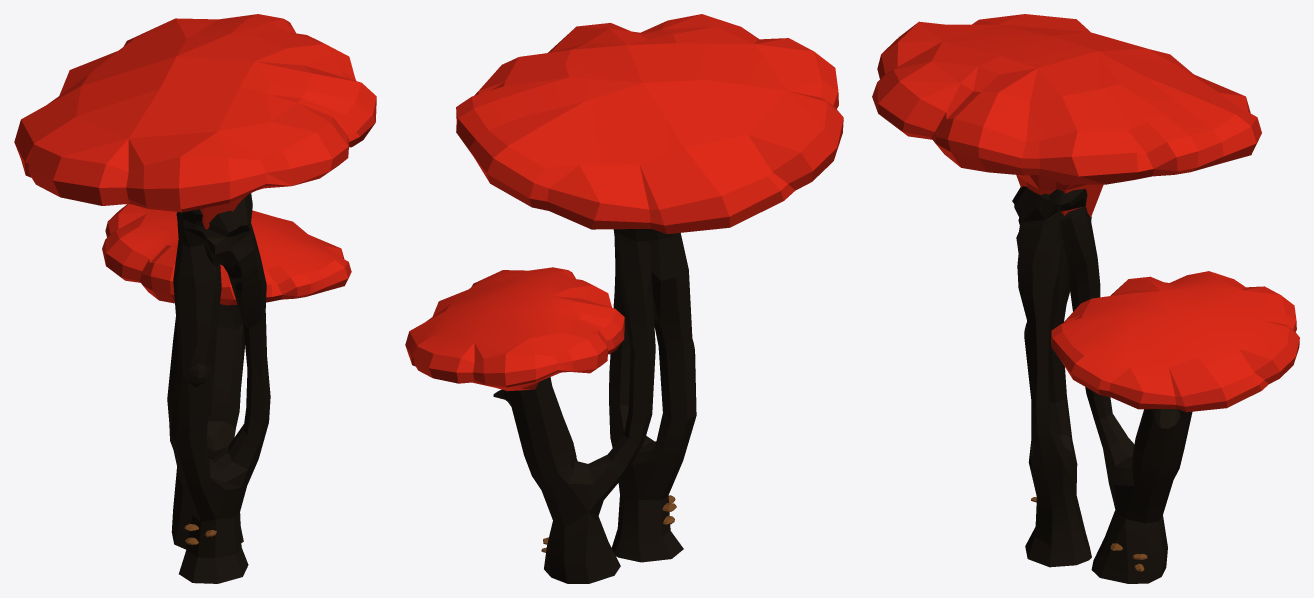
The model's file is MF_Doubletree_Mushroom.FBX.
The picture shows the model from 3 angles, left to right: view 1: azimuth 30°, elevation 25°; view 2: azimuth 150°, elevation 25°; view 3: azimuth 270°, elevation 25°; orthographic projection. The views are drawn at different scales.
Visible parts, largest first — view 1: Doubletree_Mushroom; view 2: Doubletree_Mushroom; view 3: Doubletree_Mushroom.
Part boxes in pixels (<box>): Doubletree_Mushroom: <box>14,14,376,583</box>; Doubletree_Mushroom: <box>405,14,843,583</box>; Doubletree_Mushroom: <box>872,14,1299,583</box>.
Size of the model in its own units: 7.39 by 7.91 by 10.22.
